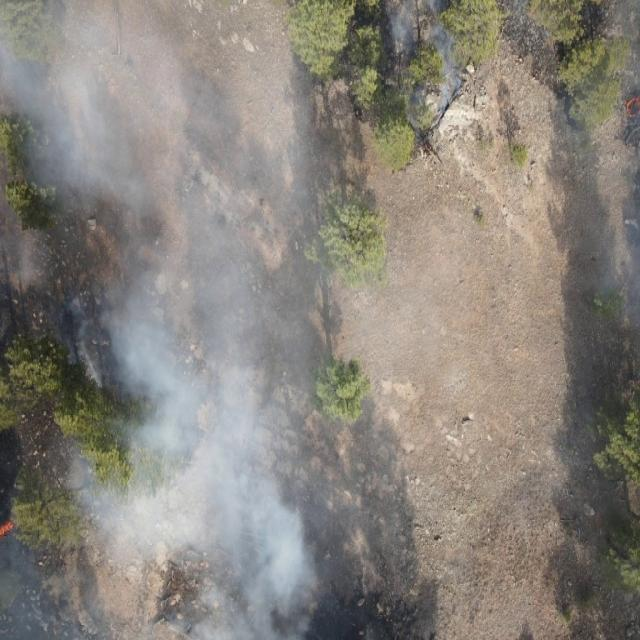fire: (624, 95, 640, 119), (0, 521, 16, 538)
smoke: (0, 0, 322, 638), (322, 188, 421, 582), (386, 0, 464, 130), (596, 200, 640, 342), (613, 0, 640, 200)
